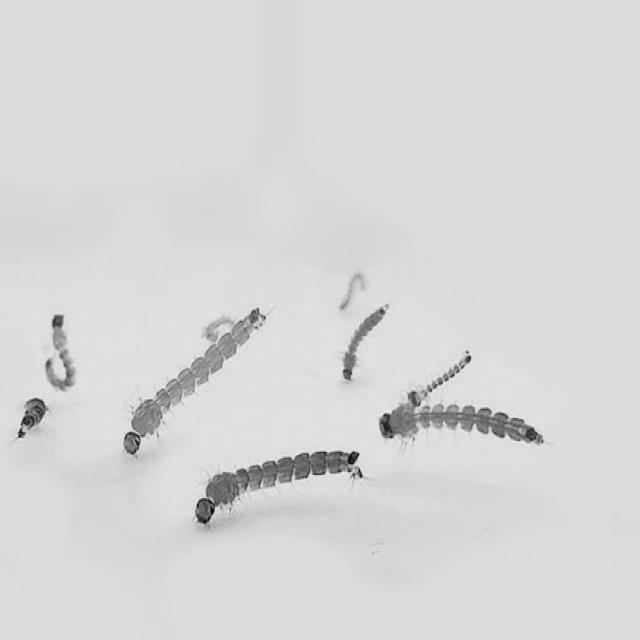larvas: (115, 302, 267, 463), (188, 432, 367, 536), (376, 406, 547, 447), (337, 295, 394, 391), (409, 351, 470, 406), (43, 317, 76, 394), (338, 271, 366, 312), (22, 396, 45, 433), (206, 317, 227, 343)
